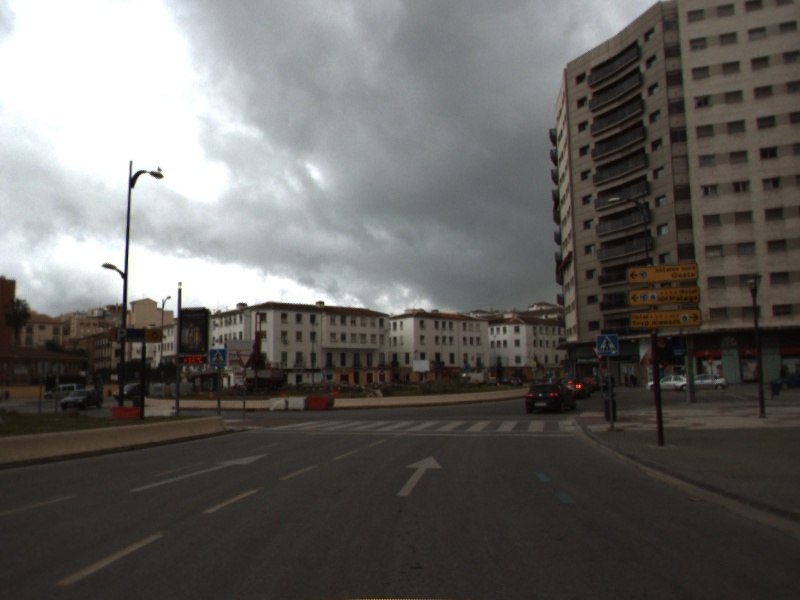STRAIGHT: (126, 452, 271, 495), (394, 453, 445, 499)
